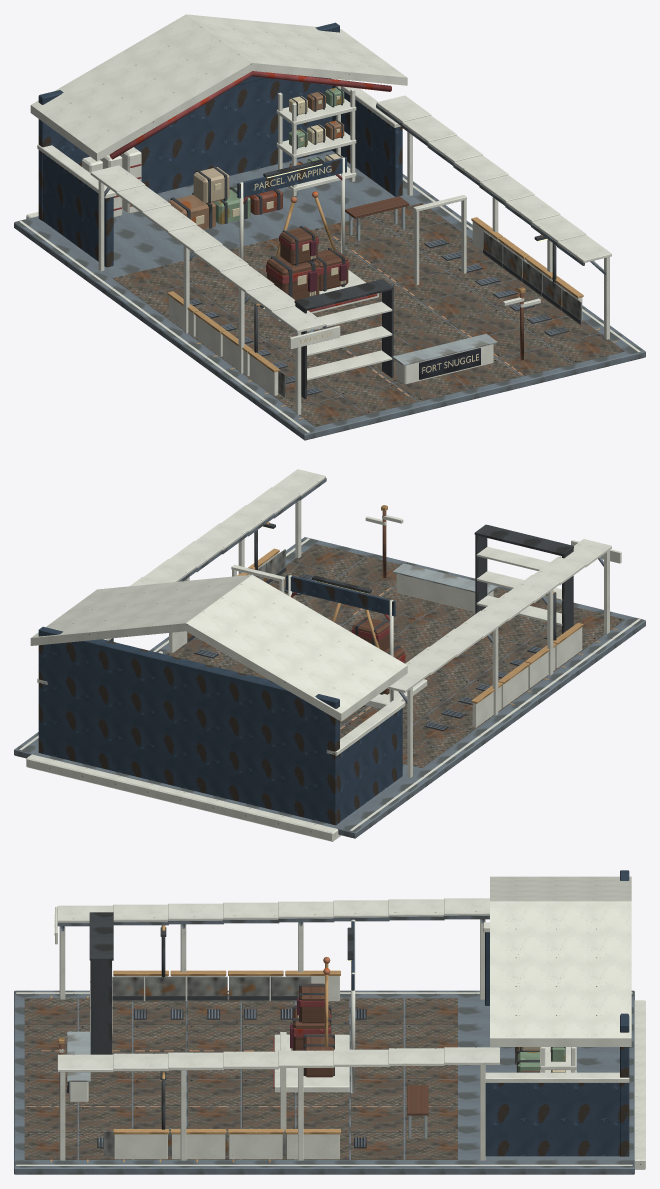
File: brrrindle-depot.glb
3 views of the same model, one above another, from view 1: azimuth 30°, elevation 25°; view 2: azimuth 150°, elevation 25°; view 3: azimuth 270°, elevation 25° (orthographic). The views are drawn at different scales.
Visible parts, largest first — view 1: brrrindle-depot; view 2: brrrindle-depot; view 3: brrrindle-depot.
Boxes of the visible parts, x1,y1,x2,y2 form: brrrindle-depot: (14,14,645,440); brrrindle-depot: (14,469,645,841); brrrindle-depot: (14,870,645,1174).
Size of the model in its own units: 16.9 by 8.39 by 25.34.
22 materials, 20 textured.
